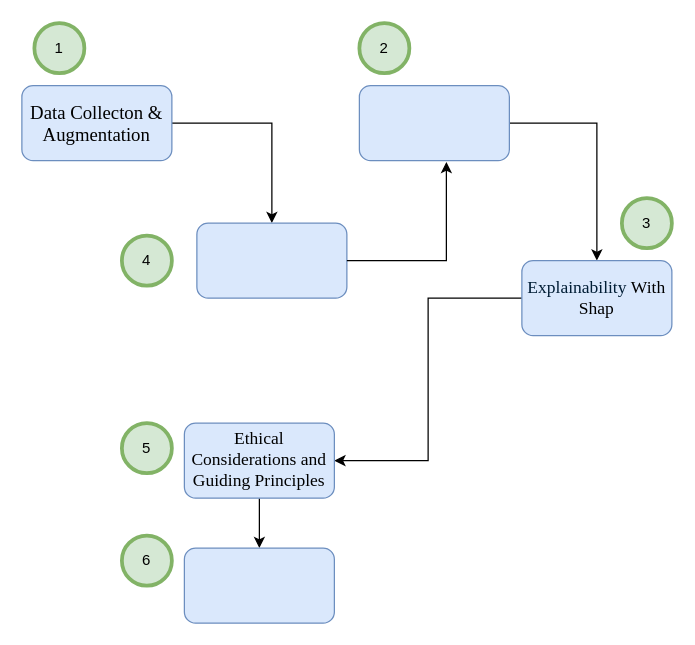
This 695x645 diagram has some shape labels left out. The centre of each missing label's shape, as x and y in pixels:
Data pre-processin & Feature Engineering: the point at 271,260
Model Selecton and Training: the point at 433,122
Pipeline and Error Handling: the point at 258,585
